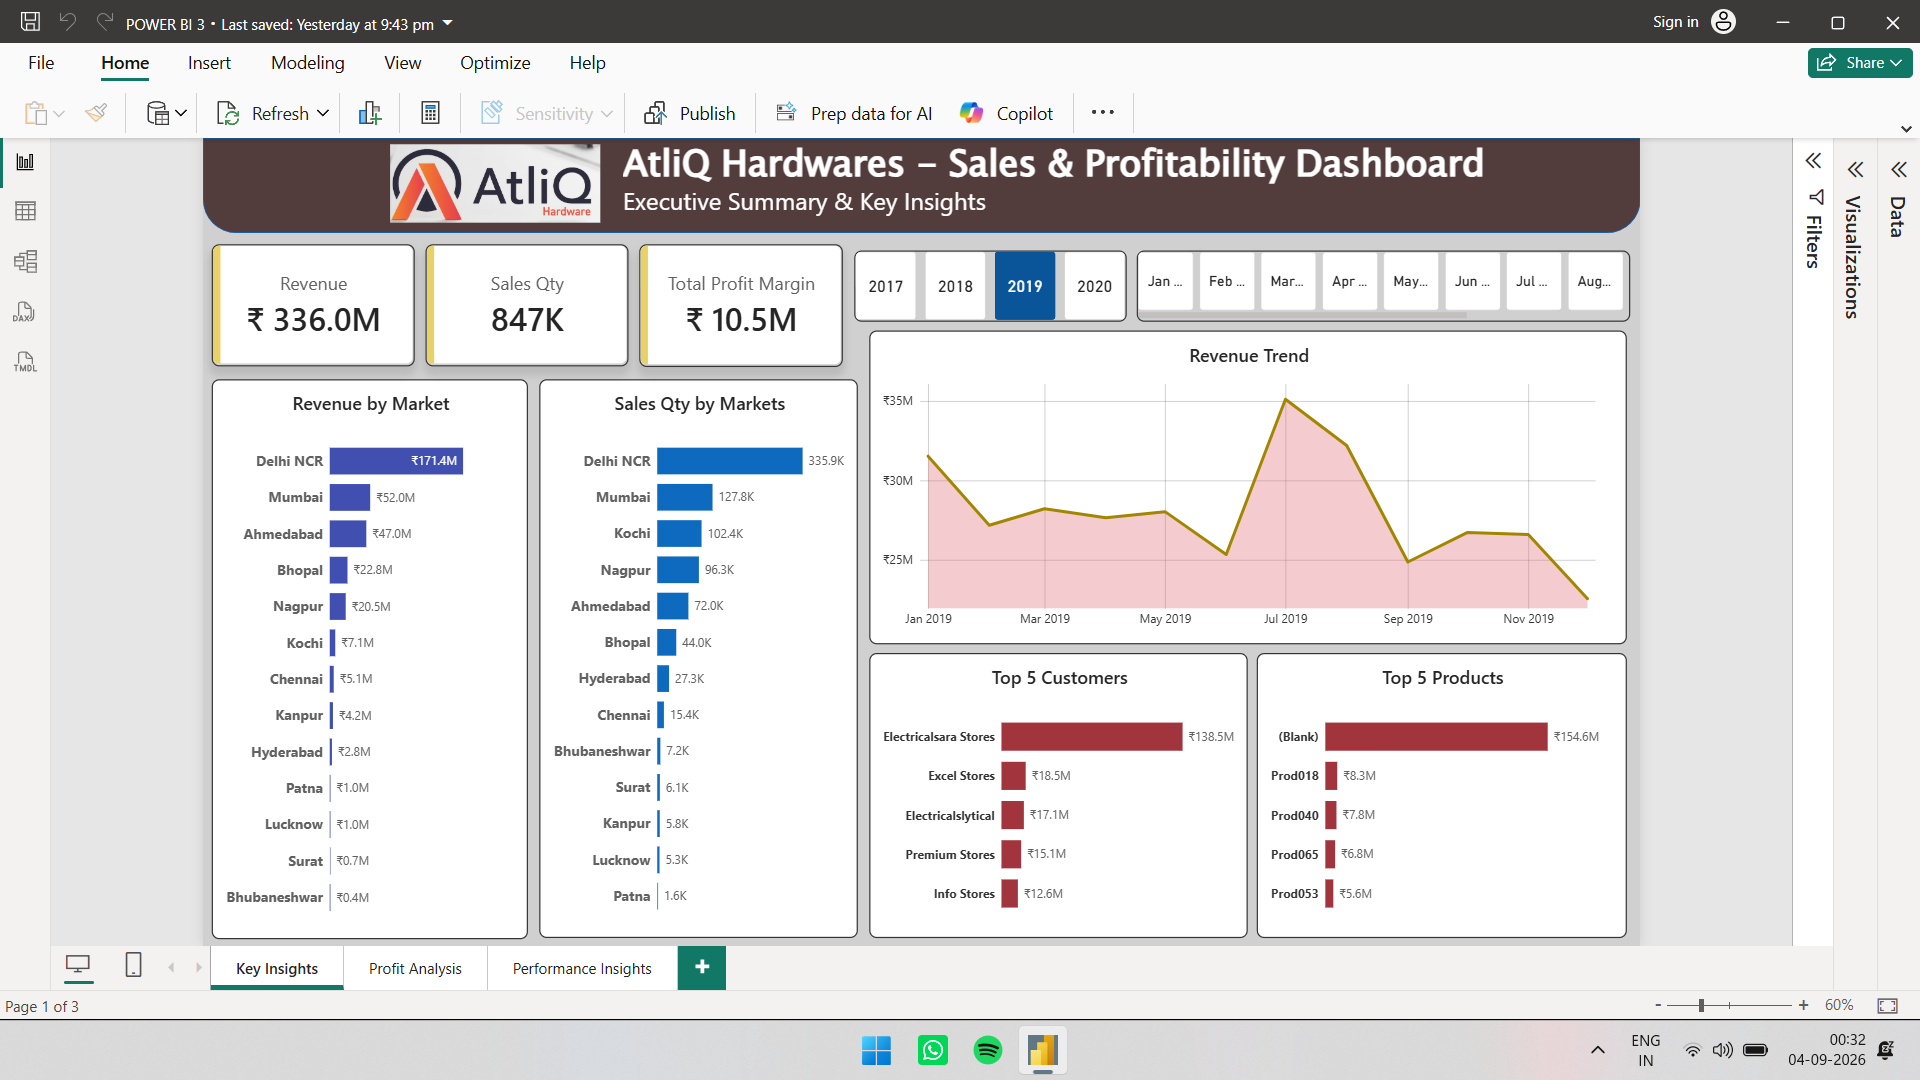

The dashboard page shown, as its layout file describes it:
{"tool":"powerbi","page":{"name":"Key Insights","canvas":[1920,1080],"ordinal":0},"visuals":[{"type":"barChart","title":"Revenue by Market","fields":{"Category":["sales markets.markets_name"],"Y":["Basic Measures.Revenue"]},"box":[11.7,322.3,422.5,748.1],"z":0},{"type":"barChart","title":"Sales Qty by Markets","fields":{"Y":["Basic Measures.Sales Qty"],"Category":["sales markets.markets_name"]},"box":[449.2,322.3,425.8,746.4],"z":1000},{"type":"lineChart","title":"Revenue Trend","fields":{"Y":["Basic Measures.Revenue"],"Category":["sales date.cy_date.Variation.Date Hierarchy.Year","sales date.cy_date.Variation.Date Hierarchy.Quarter","sales date.cy_date.Variation.Date Hierarchy.Month","sales date.cy_date.Variation.Date Hierarchy.Day"]},"box":[890,257.1,1011.9,419.1],"z":2000},{"type":"barChart","title":"Top 5 Customers","fields":{"Category":["sales customers.custmer_name"],"Y":["Basic Measures.Revenue"]},"box":[890,687.9,505.9,380.7],"z":3000},{"type":"barChart","title":"Top 5 Products","fields":{"Y":["Basic Measures.Revenue"],"Category":["sales products.product_code"]},"box":[1407.6,687.9,494.3,380.7],"z":4000},{"type":"shape","box":[0,0,1920.2,126.9],"z":5000},{"type":"cardVisual","fields":{"Data":["Basic Measures.Total Profit Margin"]},"box":[582.4,142.3,272.2,163.6],"z":6000},{"type":"cardVisual","title":"Revenue","fields":{"Data":["Basic Measures.Revenue"]},"box":[11.7,141.9,271.4,162.9],"z":7000},{"type":"cardVisual","title":"Sales Qty.","fields":{"Data":["Basic Measures.Sales Qty"]},"box":[297.2,141.9,271.4,162.9],"z":8000},{"type":"advancedSlicerVisual","fields":{"Values":["sales date.year"]},"box":[869.9,150.3,364,95.2],"z":9000},{"type":"advancedSlicerVisual","fields":{"Values":["sales date.cy_date"]},"box":[1247.6,150.6,659.6,95.2],"z":10000},{"type":"image","box":[218.7,9,343.6,104.7],"z":11000},{"type":"textbox","box":[561.7,-1,1165.4,81.4],"z":12000},{"type":"textbox","box":[561.7,62.4,1134.7,52.5],"z":13000}]}

Visuals, with their boxes on the page's 1920x1080 design canvas (x1, y1, x2, y2). These are canvas units, not pixel positions in the 1920x1080 screenshot, which may show the page scaled, cropped or inside an application window:
"Revenue by Market" barChart: left=12, top=322, right=434, bottom=1070
"Sales Qty by Markets" barChart: left=449, top=322, right=875, bottom=1069
"Revenue Trend" lineChart: left=890, top=257, right=1902, bottom=676
"Top 5 Customers" barChart: left=890, top=688, right=1396, bottom=1069
"Top 5 Products" barChart: left=1408, top=688, right=1902, bottom=1069
shape: left=0, top=0, right=1920, bottom=127
cardVisual - Basic Measures.Total Profit Margin: left=582, top=142, right=855, bottom=306
"Revenue" cardVisual: left=12, top=142, right=283, bottom=305
"Sales Qty." cardVisual: left=297, top=142, right=569, bottom=305
advancedSlicerVisual - sales date.year: left=870, top=150, right=1234, bottom=246
advancedSlicerVisual - sales date.cy_date: left=1248, top=151, right=1907, bottom=246
image: left=219, top=9, right=562, bottom=114
textbox: left=562, top=-1, right=1727, bottom=80
textbox: left=562, top=62, right=1696, bottom=115
